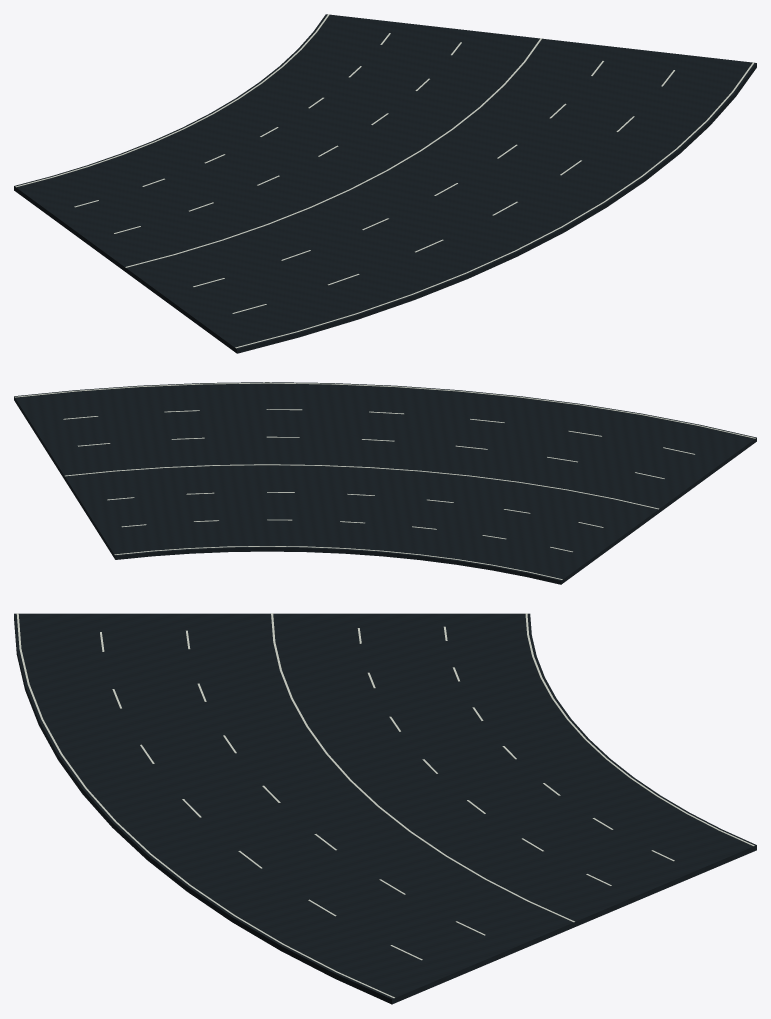
The model's file is Transit_Road_6L_Curve45_R36.glb.
3 renders of one model, top to bottom at view 1: azimuth 30°, elevation 25°; view 2: azimuth 150°, elevation 25°; view 3: azimuth 270°, elevation 25°, orthographic. The views are drawn at different scales.
Visible parts, largest first — view 1: Transit_Road_6L_Curve45_R36_Surface, Transit_Road_6L_Curve45_R36_MarkEdge-1, Transit_Road_6L_Curve45_R36_MarkLane3, Transit_Road_6L_Curve45_R36_MarkEdge+1; view 2: Transit_Road_6L_Curve45_R36_Surface, Transit_Road_6L_Curve45_R36_MarkEdge-1, Transit_Road_6L_Curve45_R36_MarkLane3, Transit_Road_6L_Curve45_R36_MarkEdge+1, Transit_Road_6L_Curve45_R36_MarkLane1; view 3: Transit_Road_6L_Curve45_R36_Surface, Transit_Road_6L_Curve45_R36_MarkEdge-1, Transit_Road_6L_Curve45_R36_MarkLane3, Transit_Road_6L_Curve45_R36_MarkEdge+1.
Boxes of the visible parts, x1=… form: Transit_Road_6L_Curve45_R36_Surface: x1=14, y1=14, x2=756, y2=353; Transit_Road_6L_Curve45_R36_MarkEdge-1: x1=235, y1=62, x2=754, y2=348; Transit_Road_6L_Curve45_R36_MarkLane3: x1=125, y1=38, x2=542, y2=267; Transit_Road_6L_Curve45_R36_MarkEdge+1: x1=15, y1=14, x2=329, y2=187; Transit_Road_6L_Curve45_R36_Surface: x1=14, y1=382, x2=756, y2=584; Transit_Road_6L_Curve45_R36_MarkEdge-1: x1=15, y1=382, x2=755, y2=438; Transit_Road_6L_Curve45_R36_MarkLane3: x1=65, y1=464, x2=658, y2=509; Transit_Road_6L_Curve45_R36_MarkEdge+1: x1=114, y1=546, x2=562, y2=579; Transit_Road_6L_Curve45_R36_MarkLane1: x1=63, y1=409, x2=694, y2=454; Transit_Road_6L_Curve45_R36_Surface: x1=14, y1=613, x2=756, y2=1004; Transit_Road_6L_Curve45_R36_MarkEdge-1: x1=16, y1=613, x2=394, y2=998; Transit_Road_6L_Curve45_R36_MarkLane3: x1=271, y1=613, x2=574, y2=922; Transit_Road_6L_Curve45_R36_MarkEdge+1: x1=525, y1=613, x2=754, y2=846.
Bounding box in the file's own units: 31.82 × 0.212 × 25.91.
Materials: 2 (1 with a texture image).
